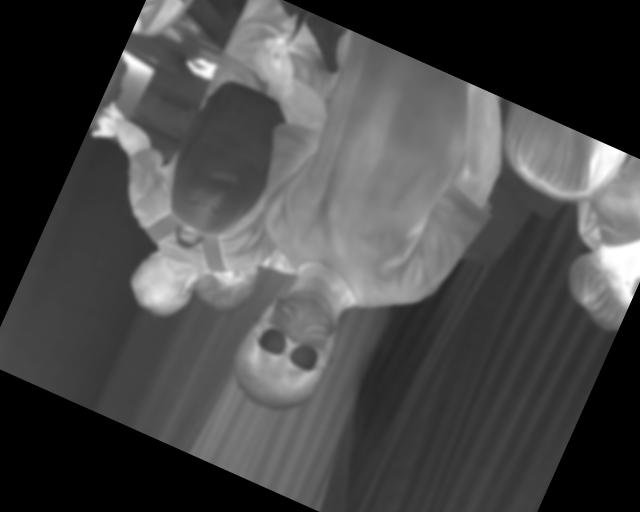face: (219, 271, 353, 424)
